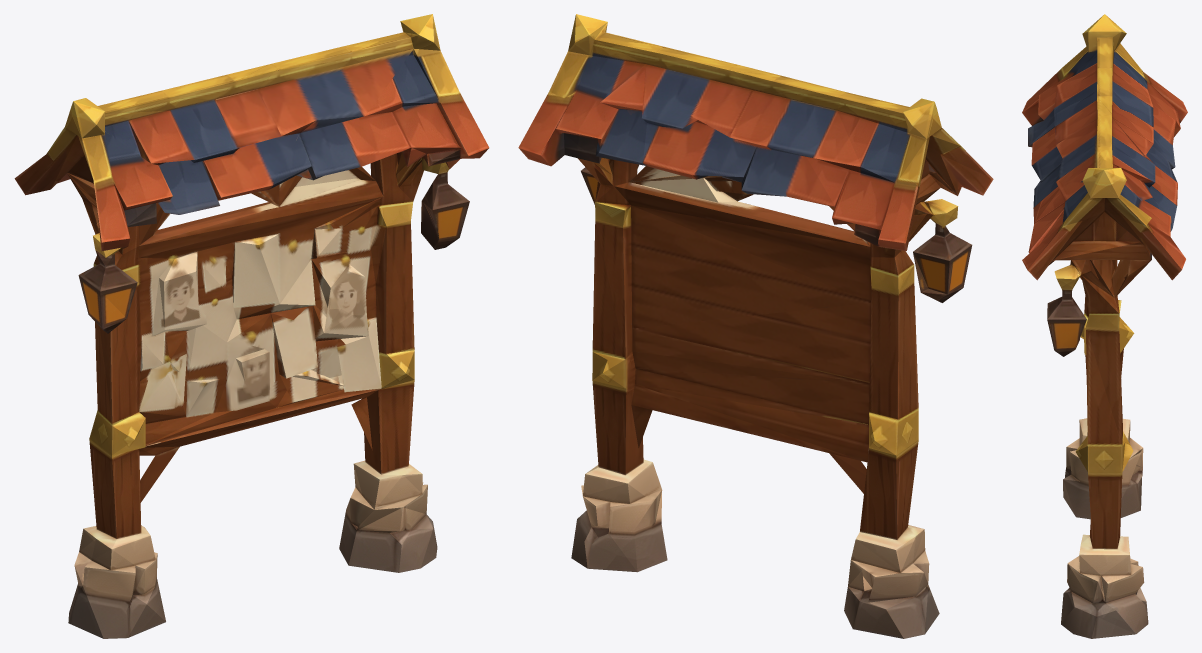
The model's file is TWN_PRP_board_A.glb.
3 views of the same model, side by side, from view 1: azimuth 30°, elevation 25°; view 2: azimuth 150°, elevation 25°; view 3: azimuth 270°, elevation 25° (orthographic). The views are drawn at different scales.
Parts seen in each view (by area): view 1: Mesh_0; view 2: Mesh_0; view 3: Mesh_0.
Part boxes in pixels (x1=…): Mesh_0: x1=14, y1=14, x2=489, y2=638; Mesh_0: x1=518, y1=14, x2=993, y2=638; Mesh_0: x1=1022, y1=14, x2=1187, y2=638.
Bounding box in the file's own units: 1.46 × 1.9 × 0.6088.
1 material, 1 textured.
